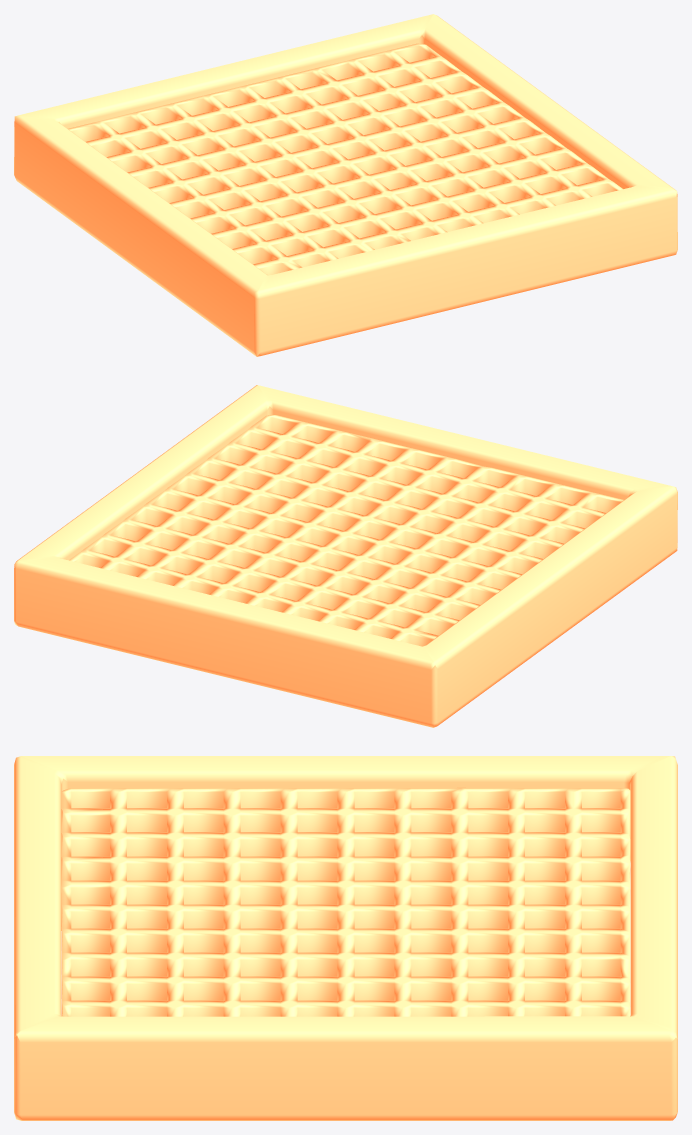
File: SM_TrapDoor.fbx
3 renders of one model, top to bottom at view 1: azimuth 30°, elevation 25°; view 2: azimuth 150°, elevation 25°; view 3: azimuth 270°, elevation 25°, orthographic. The views are drawn at different scales.
Parts seen in each view (by area): view 1: SM_TrapDoor_LOD0; view 2: SM_TrapDoor_LOD0; view 3: SM_TrapDoor_LOD0.
Boxes of the visible parts, bbox=[...] form: SM_TrapDoor_LOD0: bbox=[14, 14, 677, 356]; SM_TrapDoor_LOD0: bbox=[14, 385, 677, 727]; SM_TrapDoor_LOD0: bbox=[14, 756, 677, 1120].
Bounding box in the file's own units: 200 × 200 × 30.
